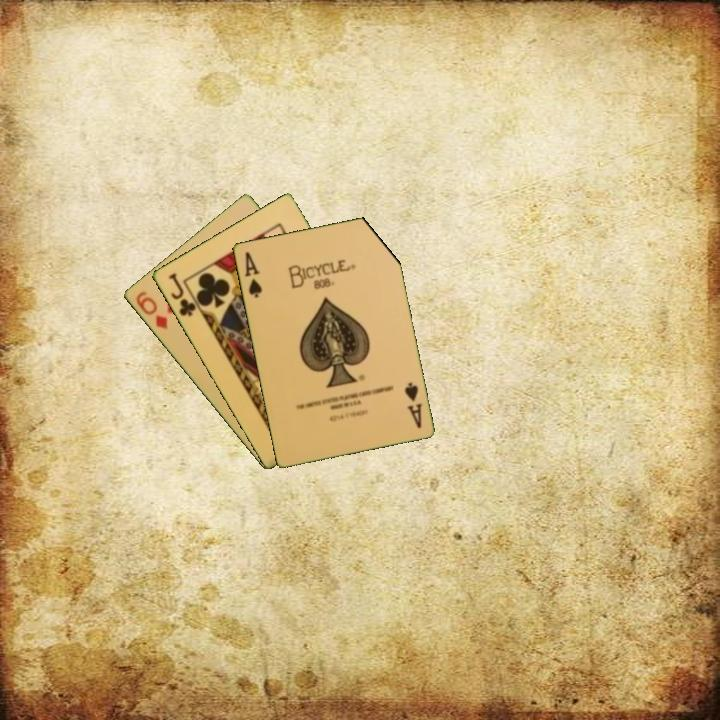6d: (132, 288, 170, 332)
As: (241, 248, 265, 300), (400, 379, 424, 431)
Jc: (164, 269, 199, 319)
